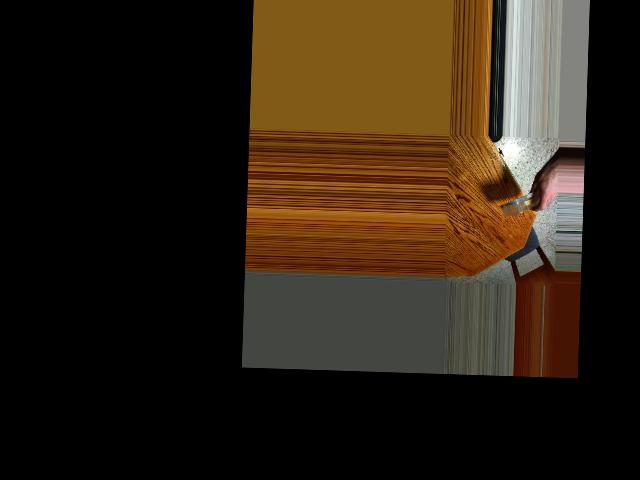cheese: (498, 190, 545, 217)
